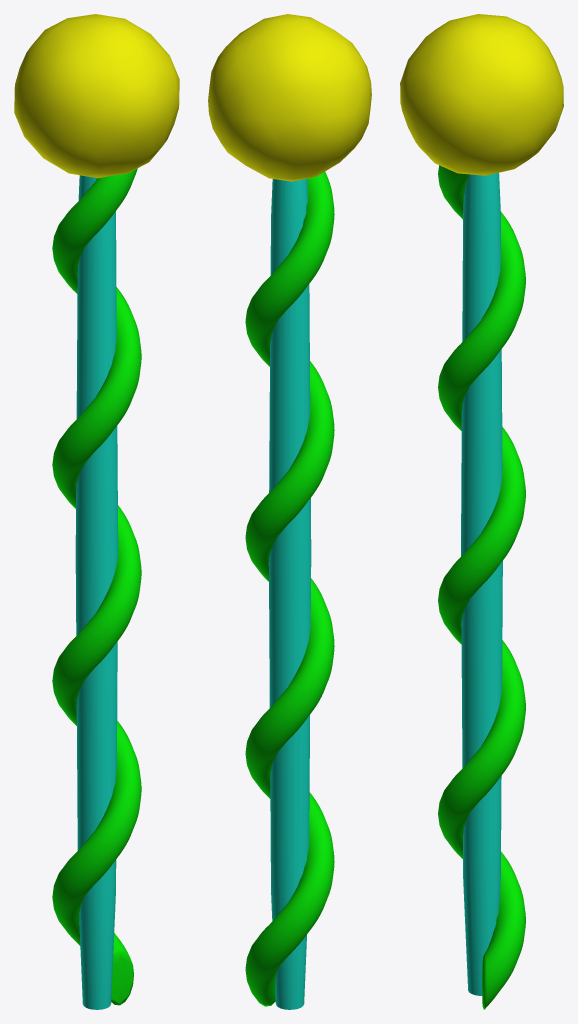
Rendered from Staff_Of_Jungles_Final2.fbx.
3 views of the same model, side by side, from view 1: azimuth 30°, elevation 25°; view 2: azimuth 150°, elevation 25°; view 3: azimuth 270°, elevation 25° (orthographic).
Visible parts, largest first — view 1: polySurface1; view 2: polySurface1; view 3: polySurface1.
Boxes of the visible parts, x1,y1,x2,y2 form: polySurface1: (14,14,179,1009); polySurface1: (208,14,371,1009); polySurface1: (400,14,563,1009).
Size of the model in its own units: 1.14 by 7.59 by 1.15.
